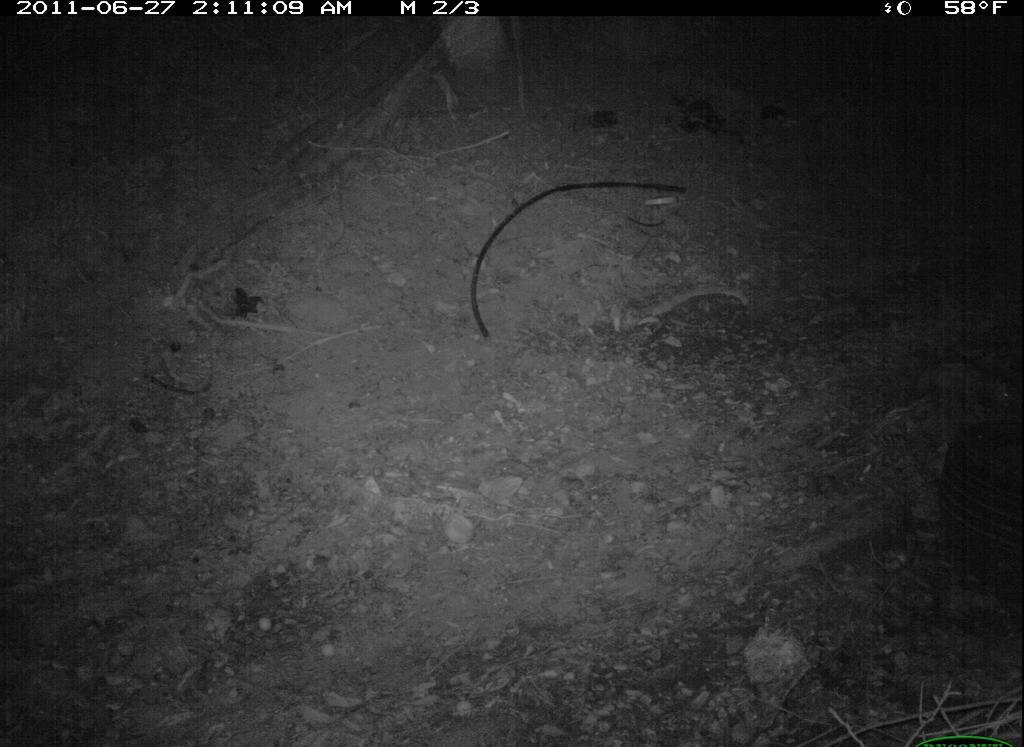opossum: (905, 342, 1023, 422)
